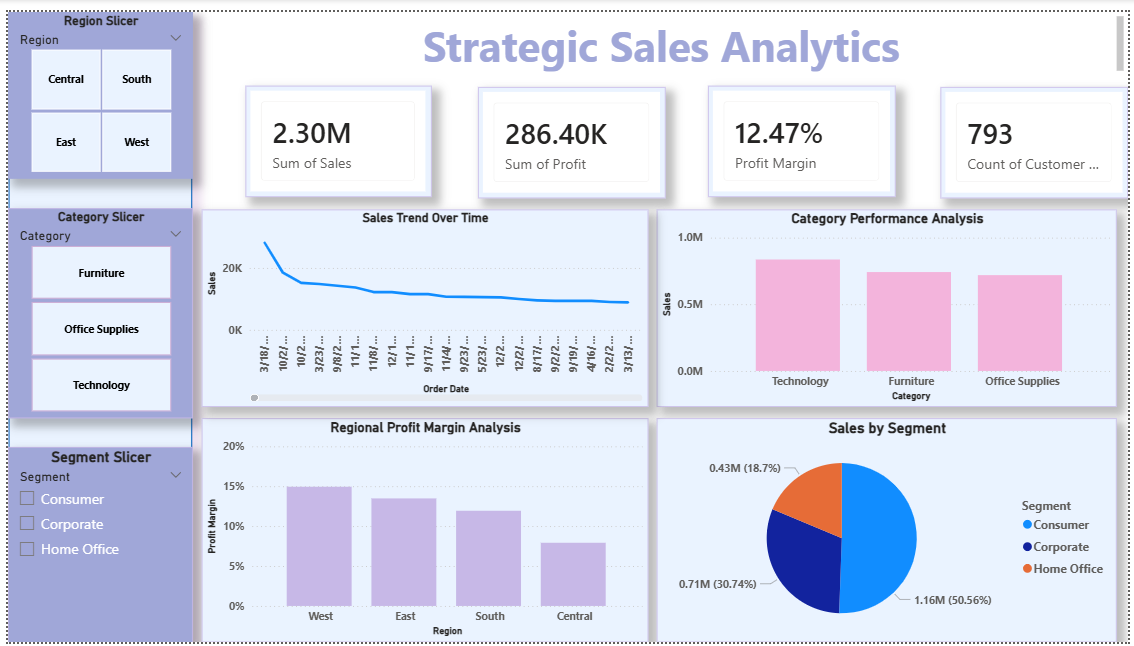

This screenshot's page, from the dashboard's own definition file:
{"tool":"powerbi","page":{"name":"Page 1","canvas":[1280,720],"ordinal":0},"visuals":[{"type":"cardVisual","title":"Total Sales","fields":{"Data":["Sum(Sample___Superstore.Sales)"]},"box":[271.4,84.3,212.9,127.1],"z":0},{"type":"cardVisual","fields":{"Data":["Sum(Sample___Superstore.Profit)"]},"box":[537.1,85.7,214.3,127.1],"z":1000},{"type":"cardVisual","fields":{"Data":["Count(Sample___Superstore.Customer ID)"]},"box":[1065.7,85.7,214.3,127.1],"z":2000},{"type":"cardVisual","fields":{"Data":["Sample___Superstore.Profit Margin"]},"box":[800,84.3,214.3,127.1],"z":3000},{"type":"textbox","box":[221.4,0,1058.6,72.9],"z":4000},{"type":"textbox","box":[0,74,212,150],"z":5000},{"type":"shape","box":[0,0,211.3,720.4],"z":6000},{"type":"slicer","title":"Region Slicer","fields":{"Values":["Sample___Superstore.Region"]},"box":[0,0,211.3,190.7],"z":7000},{"type":"slicer","title":"Category Slicer","fields":{"Values":["Sample___Superstore.Category"]},"box":[0,223.7,211.3,240.1],"z":8000},{"type":"slicer","title":"Segment Slicer","fields":{"Values":["Sample___Superstore.Segment"]},"box":[0,496.7,211.3,223.7],"z":9000},{"type":"clusteredColumnChart","title":"Regional Profit Margin Analysis","fields":{"Category":["Sample___Superstore.Region"],"Y":["Sample___Superstore.Profit Margin"]},"box":[221.4,464.3,510,255.7],"z":10000},{"type":"clusteredColumnChart","title":"Category Performance Analysis","fields":{"Category":["Sample___Superstore.Category"],"Y":["Sum(Sample___Superstore.Sales)"]},"box":[741.4,225.7,525.7,225.7],"z":11000},{"type":"pieChart","title":" Sales by Segment","fields":{"Category":["Sample___Superstore.Segment"],"Y":["Sum(Sample___Superstore.Sales)"]},"box":[741.4,464.3,525.7,255.7],"z":12000},{"type":"lineChart","title":"Sales Trend Over Time","fields":{"Category":["Sample___Superstore.Order Date"],"Y":["Sum(Sample___Superstore.Sales)"]},"box":[221.4,225.7,510,225.7],"z":13000}]}

Visuals, with their boxes in screenshot pixels (x1, y1, x2, y2), scaled from the page's 1280x720 canvas onto the 1134x646 screenshot:
"Total Sales" cardVisual: (240,76,429,190)
cardVisual - Sum(Sample___Superstore.Profit): (476,77,666,191)
cardVisual - Count(Sample___Superstore.Customer ID): (944,77,1133,191)
cardVisual - Sample___Superstore.Profit Margin: (709,76,899,190)
textbox: (196,0,1133,65)
textbox: (0,66,188,201)
shape: (0,0,187,645)
"Region Slicer" slicer: (0,0,187,171)
"Category Slicer" slicer: (0,201,187,416)
"Segment Slicer" slicer: (0,446,187,645)
"Regional Profit Margin Analysis" clusteredColumnChart: (196,417,648,645)
"Category Performance Analysis" clusteredColumnChart: (657,203,1123,405)
" Sales by Segment" pieChart: (657,417,1123,645)
"Sales Trend Over Time" lineChart: (196,203,648,405)
